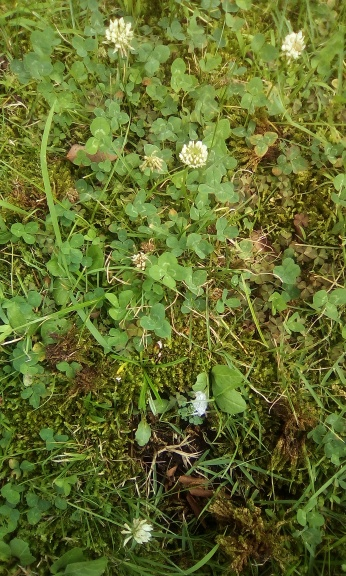4leaf: (148, 252, 188, 289)
